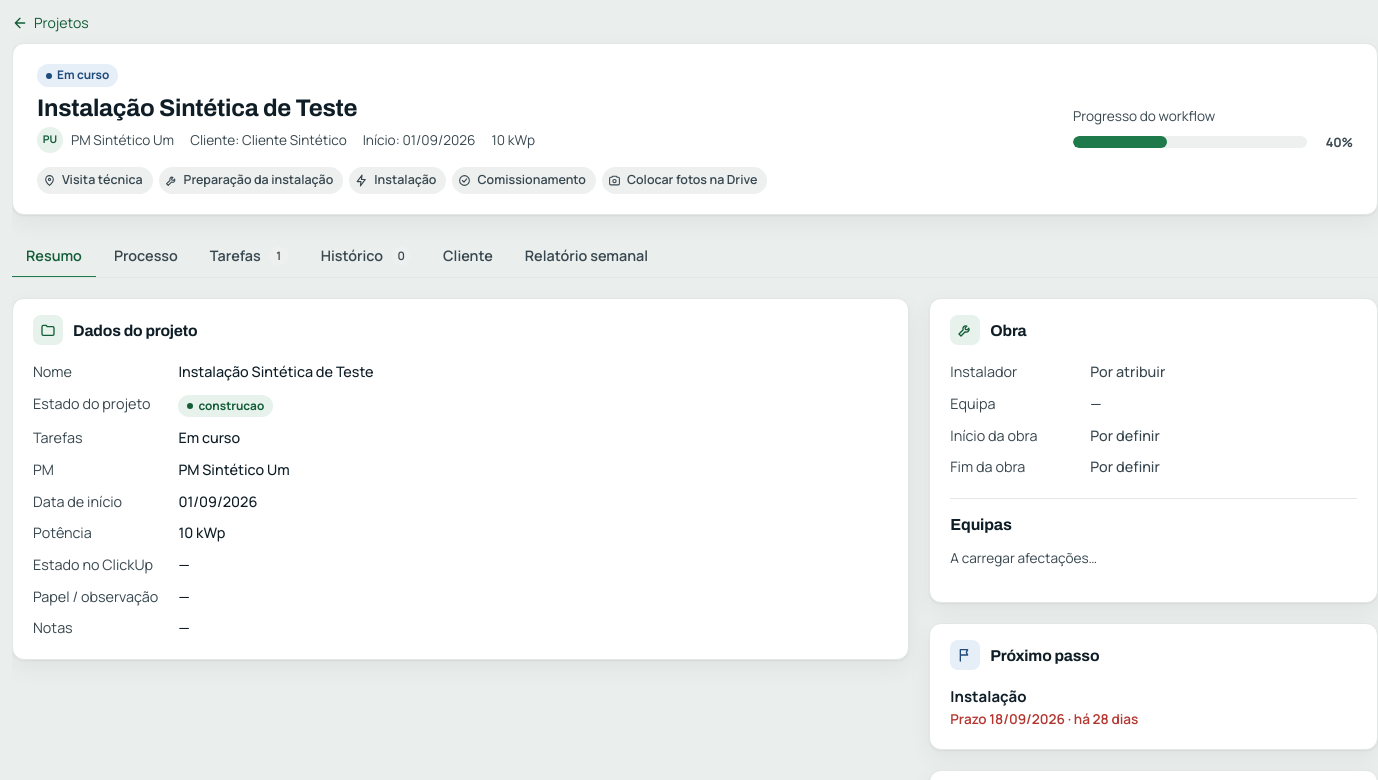
Detalhe do projeto — permissões › perfil só de leitura não vê edição nem criação de tarefas
The image size is (1378, 780).
Expected: the heading "Instalação Sintética de Teste" is shown, [37, 95, 357, 121]
Step 1. Click the tab "Tarefas 1" → (249, 257), box [196, 235, 303, 278]
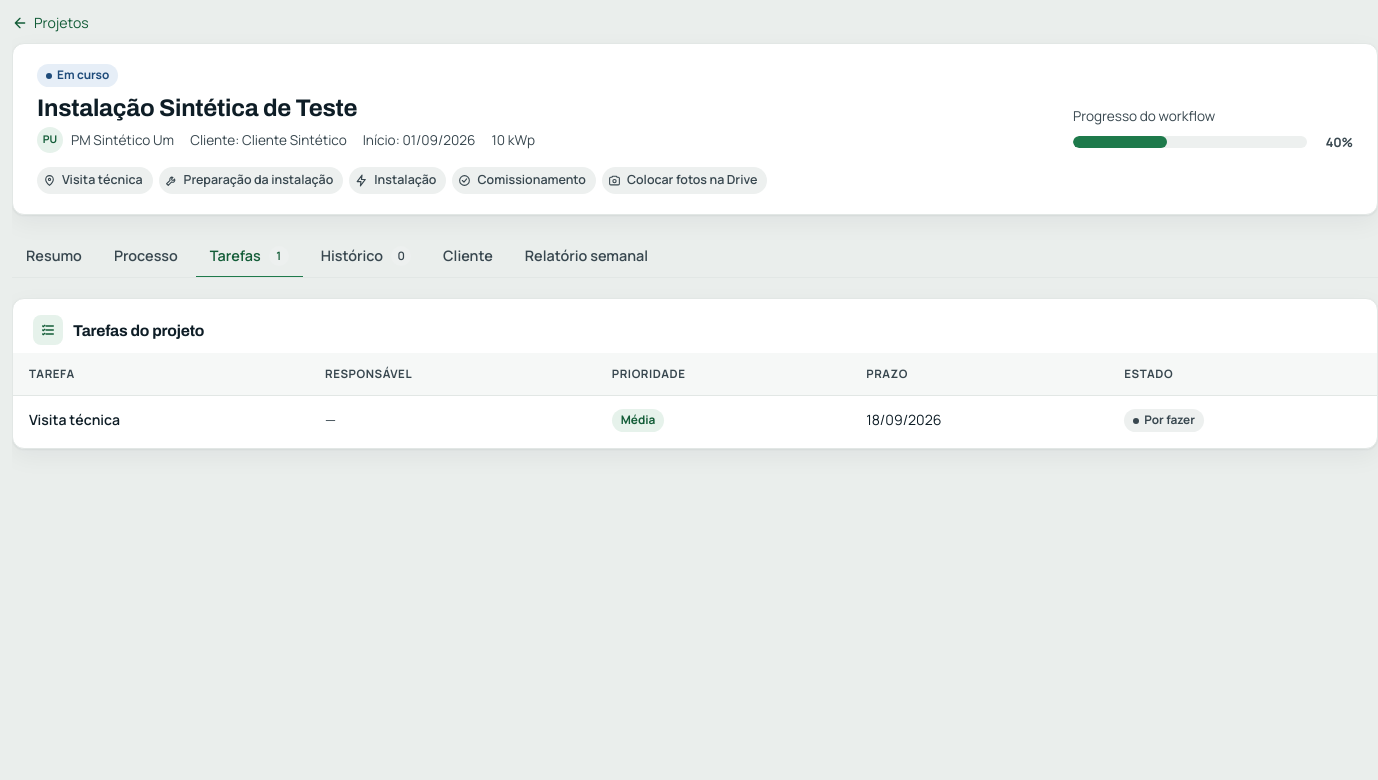
Now the table is shown, box [13, 353, 1377, 444]
